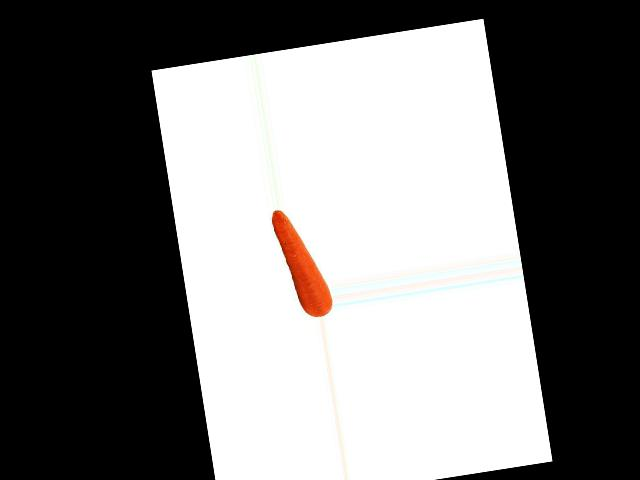carrot: (265, 201, 331, 304)
